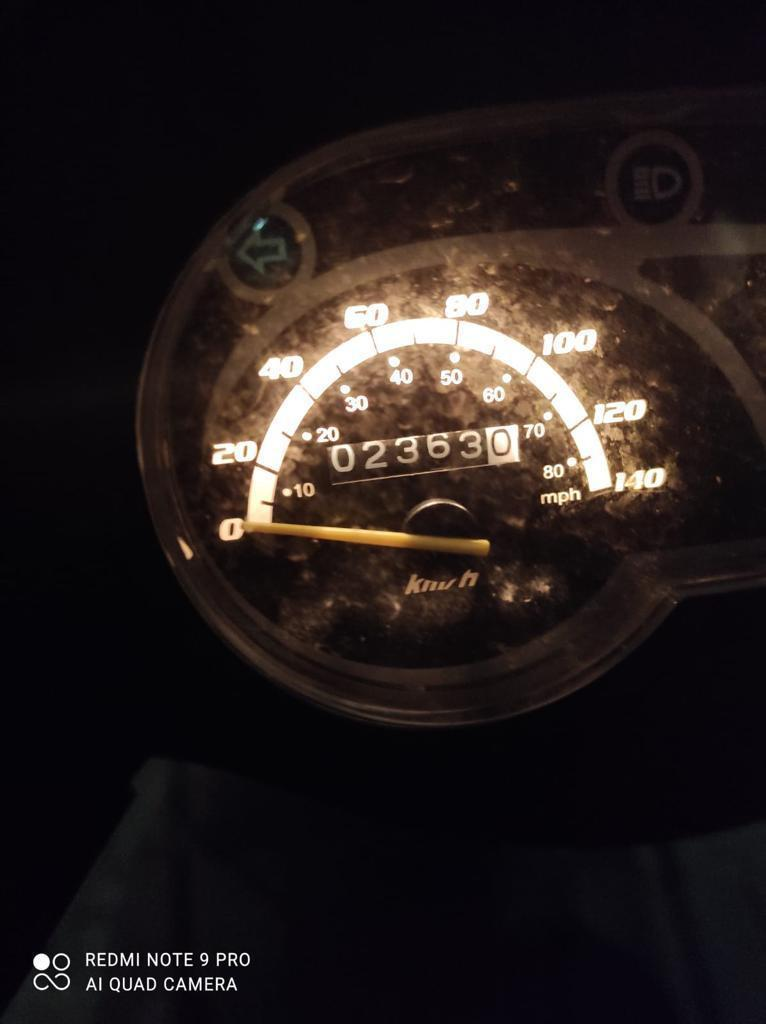0: (330, 443, 355, 472), (490, 428, 511, 456), (327, 425, 339, 440)
2: (361, 439, 388, 469)
3: (457, 430, 482, 459), (394, 436, 419, 464)
6: (425, 431, 450, 459)
odometer: (323, 422, 521, 486)
